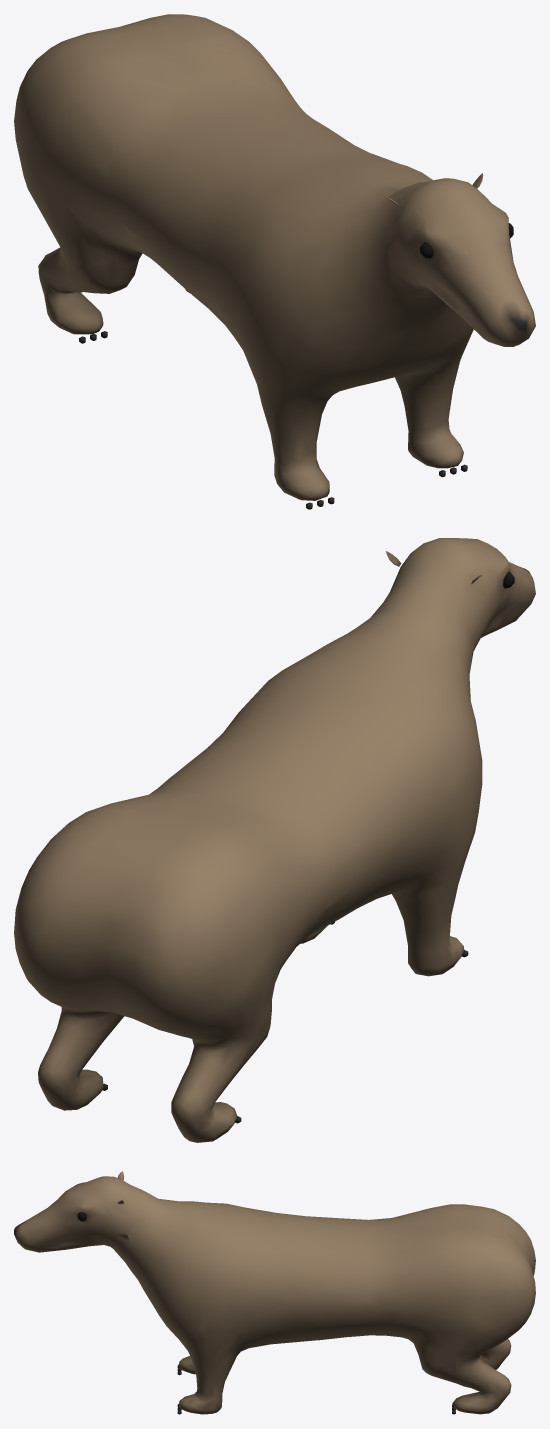
File: capybara.glb
3 views of the same model, one above another, from view 1: azimuth 30°, elevation 25°; view 2: azimuth 150°, elevation 25°; view 3: azimuth 270°, elevation 25° (orthographic). The views are drawn at different scales.
Parts seen in each view (by area): view 1: lack; view 2: lack; view 3: lack.
Part boxes in pixels (bbox=[...]): lack: bbox=[14, 14, 535, 509]; lack: bbox=[14, 538, 535, 1142]; lack: bbox=[14, 1171, 535, 1414].
Bounding box in the file's own units: 0.4516 × 0.6679 × 1.48.
